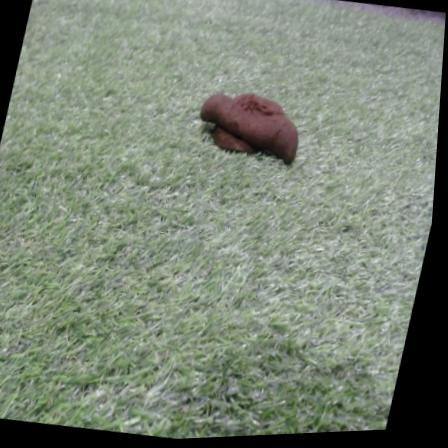dog-poop: (189, 82, 315, 174)
